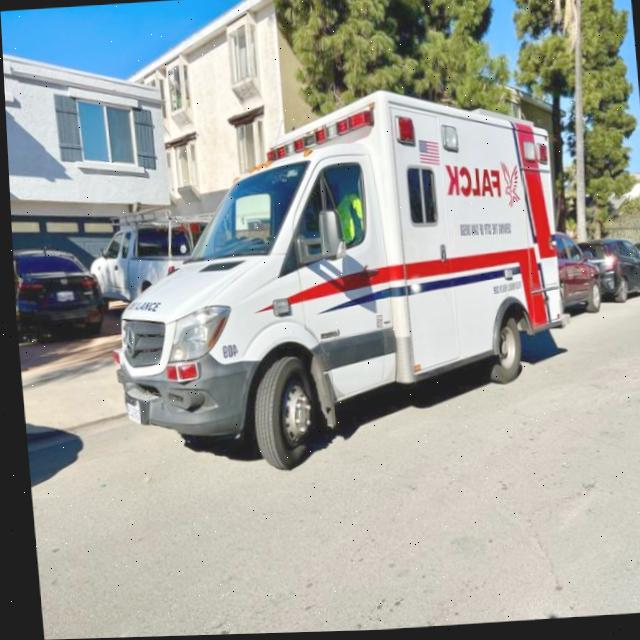emergency: (91, 91, 413, 482)
